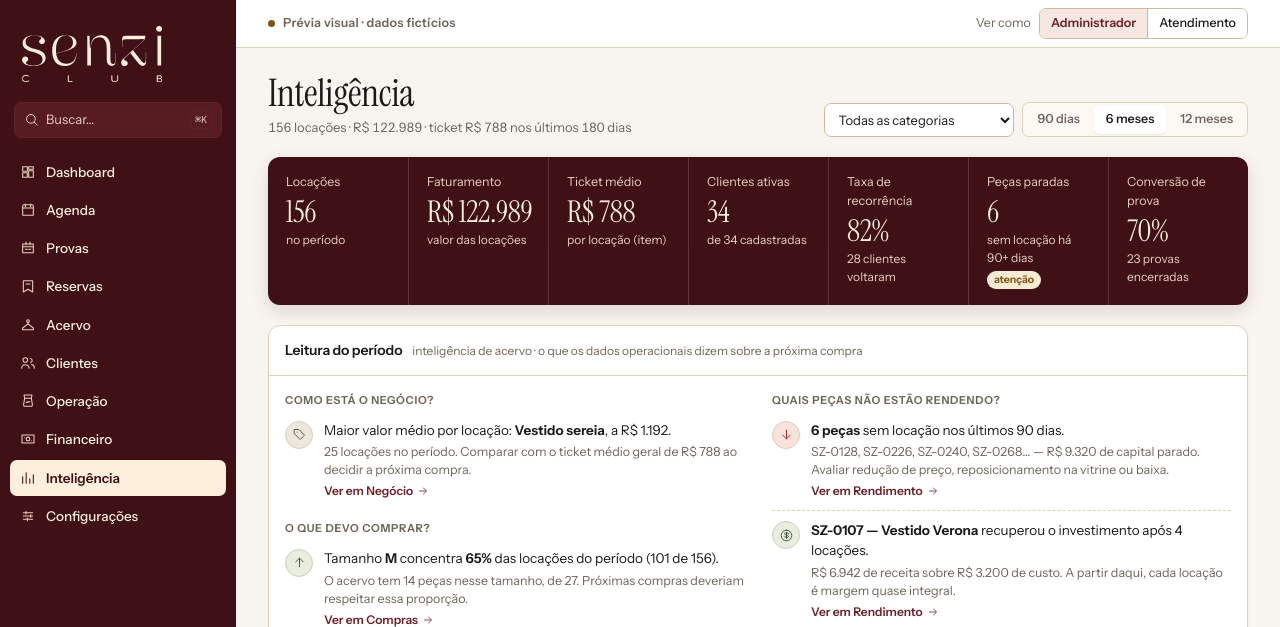
Test case: Inteligência — filtros › filtro de categoria restringe "Receita por peça"
Select "Macacão" in the dropdown named "Categoria". click: (919, 120)
box: [824,103,1014,137]
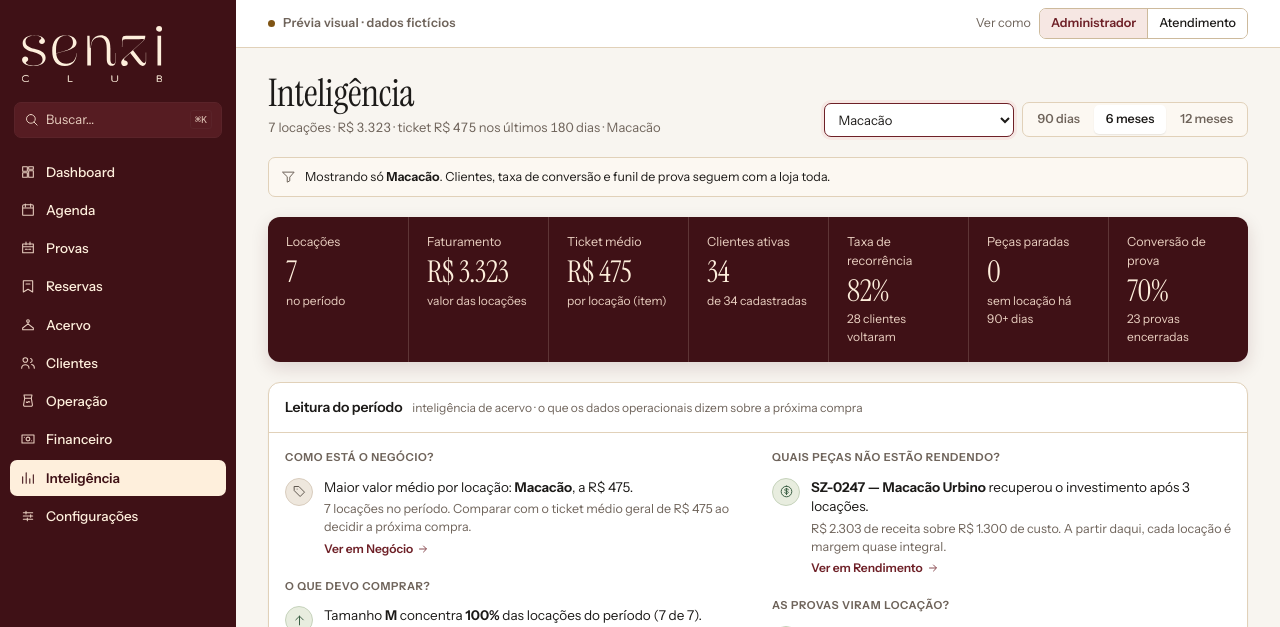
Expected: the text "SZ-0247 — Macacão Urbino" is shown, [811,479,986,495]
Now the text "· Macacão" is shown, box [268,119,661,135]
